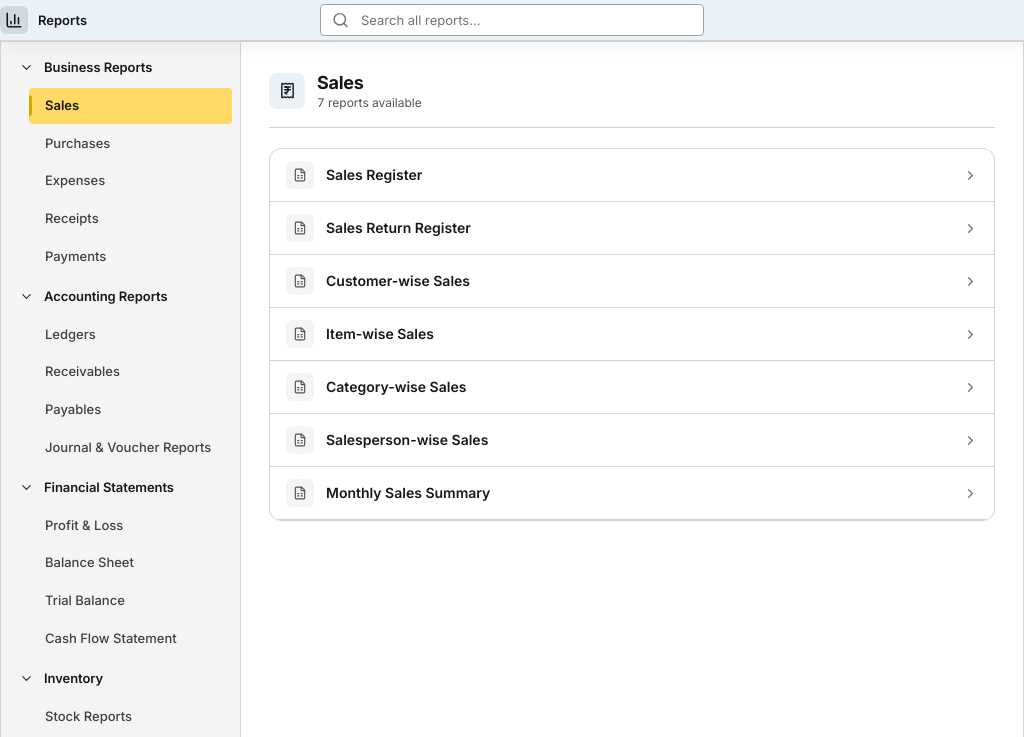
Scenario: ReportsWorkspace › opens every report on the shared full-page report screen
Click the button "Profit & Loss". click: (130, 526)
box: x1=29 y1=508 x2=232 y2=543
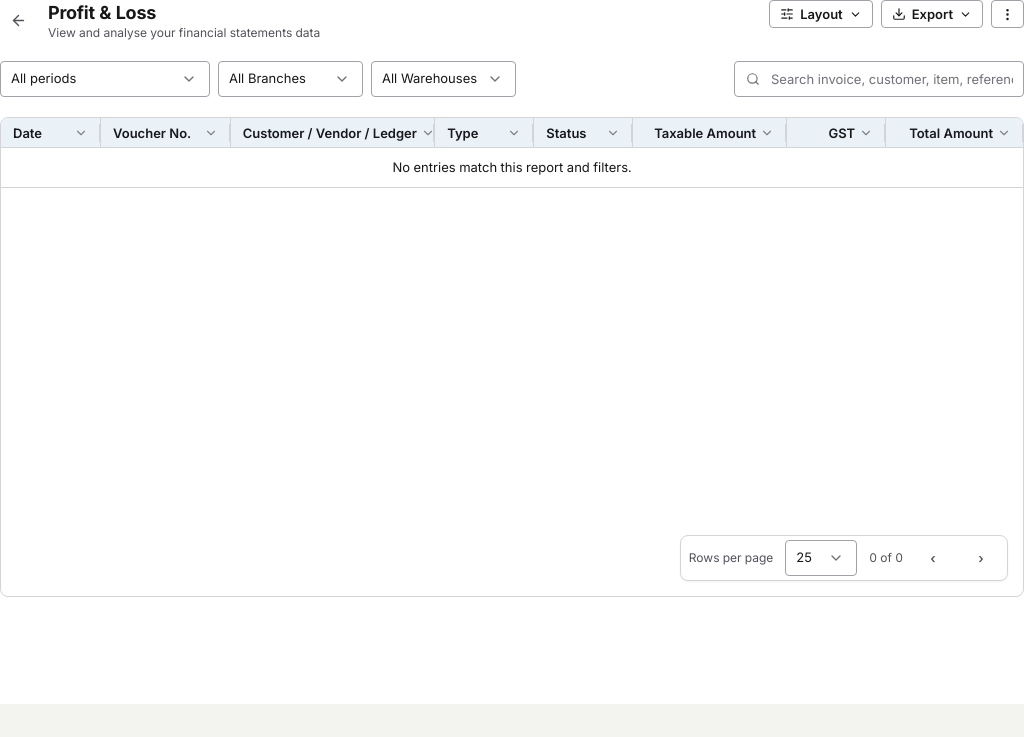
Expected: the heading "Profit & Loss" is shown, x1=48 y1=2 x2=156 y2=23
Expected: the button "Layout" is shown, x1=769 y1=0 x2=873 y2=28
Expected: the button "Export" is shown, x1=881 y1=0 x2=983 y2=28
